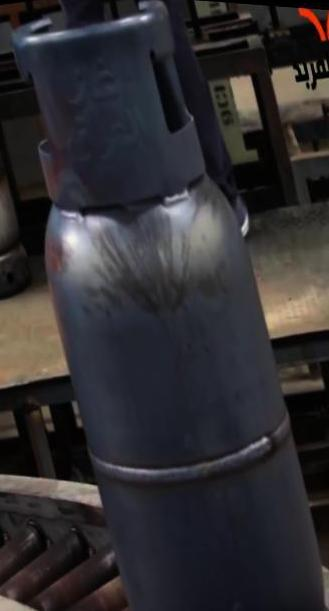cylinder: (1, 0, 329, 611)
